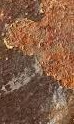Corrosion: (5, 1, 74, 91)
